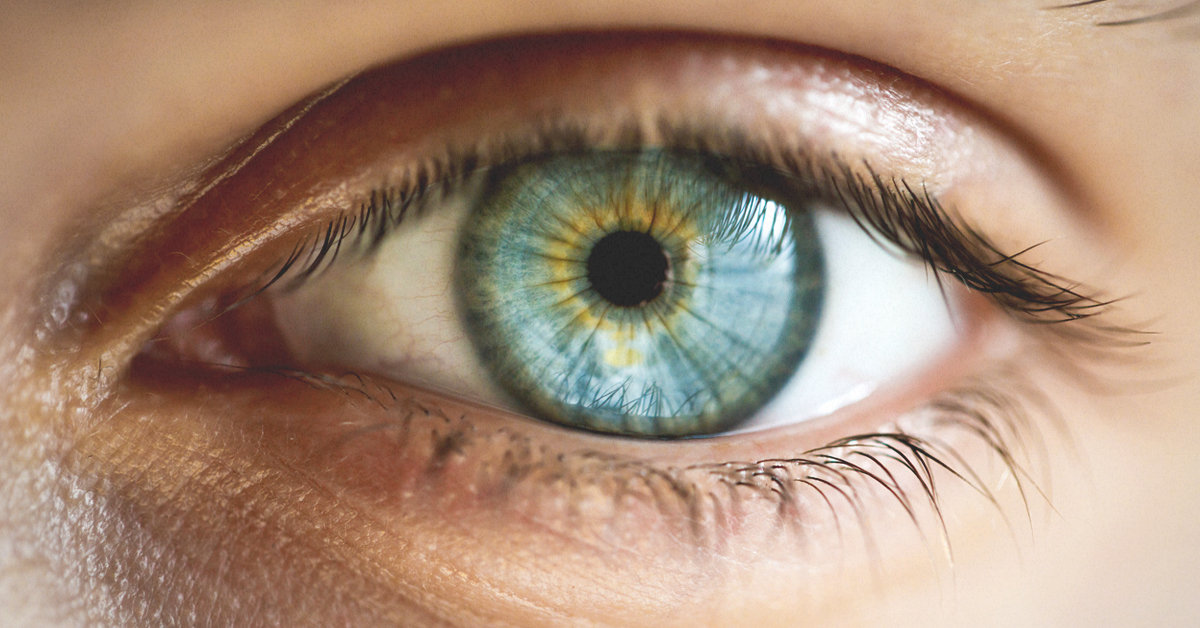iris: (452, 111, 828, 438)
pupil: (581, 228, 669, 310)
